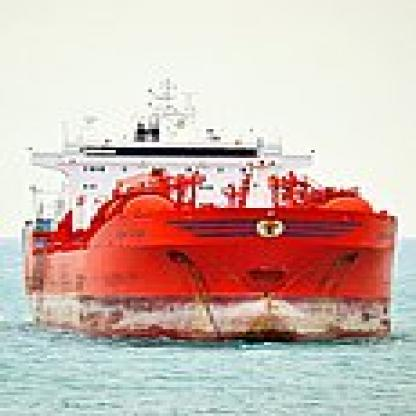Tanker: (29, 76, 409, 361)
